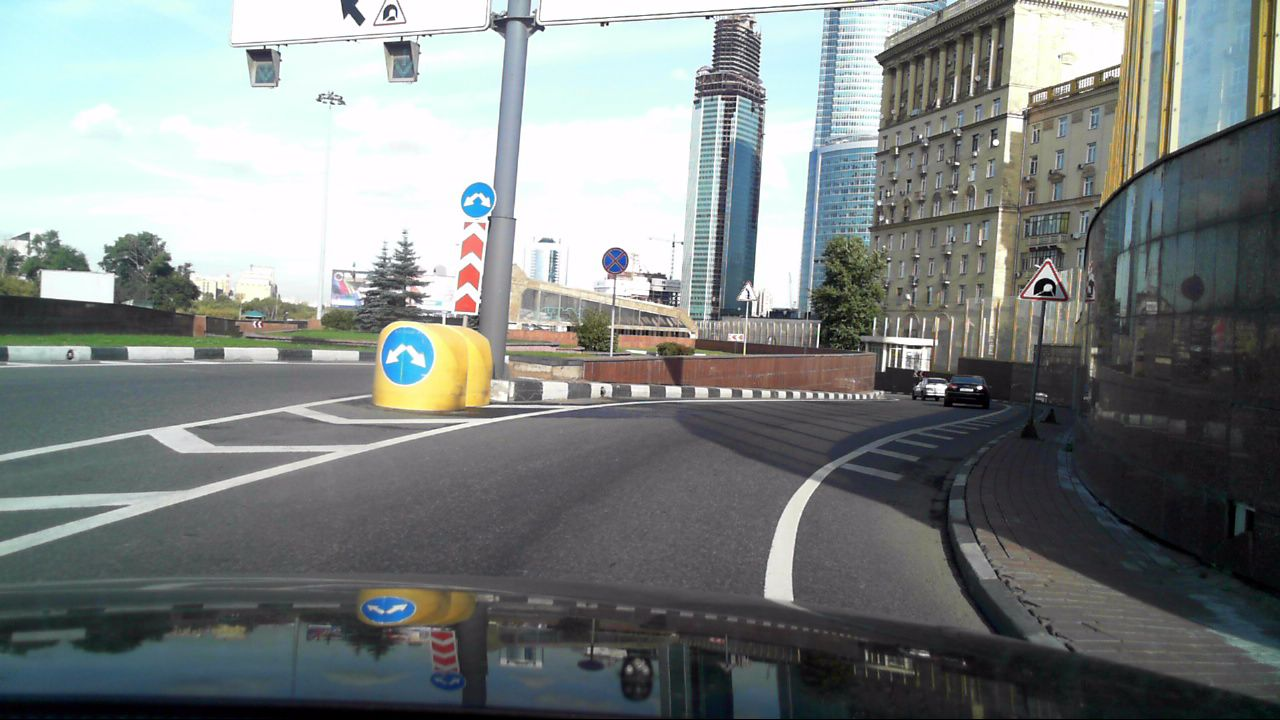No Parking: (601, 244, 631, 276)
